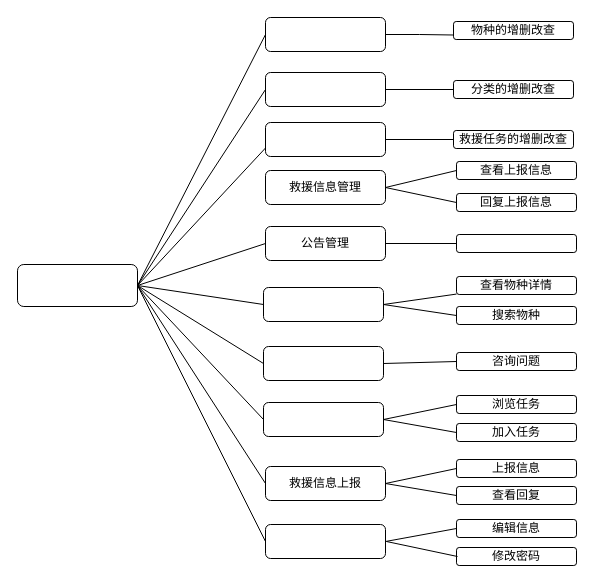
Some shapes in this 594 by 583 pixel diagram are drawn without their labels. Each missing label, with the centre of its shape:
"AI知识查询" goes at pixel 323 363.
"个人信息管理" goes at pixel 325 541.
"公告的增删改查" goes at pixel 516 243.
"分类管理" goes at pixel 325 89.
"救援任务参与" goes at pixel 323 419.
"救援任务管理" goes at pixel 325 139.
"濒危动植物科普与救助系统" goes at pixel 77 285.
"物种管理" goes at pixel 325 34.
"科普浏览" goes at pixel 323 304.
